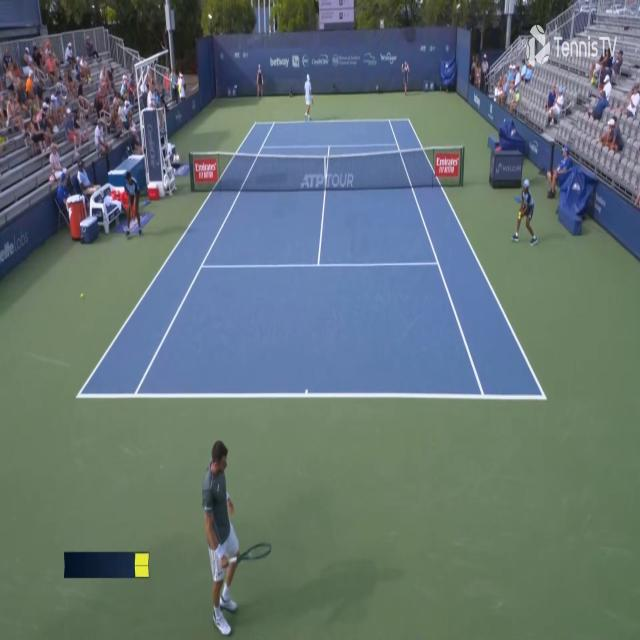tennis-player: (200, 436, 273, 638), (302, 72, 314, 122)
